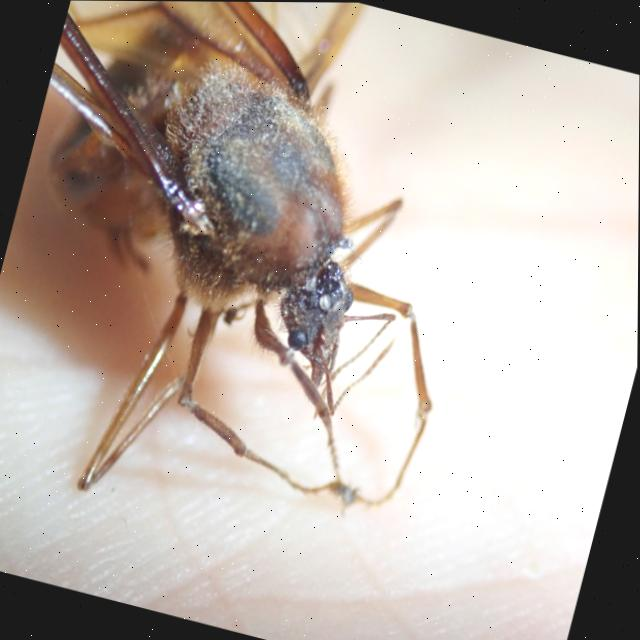Dead-Male-Alate: (0, 0, 525, 572)
